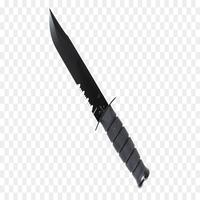knife: (46, 7, 145, 182)
